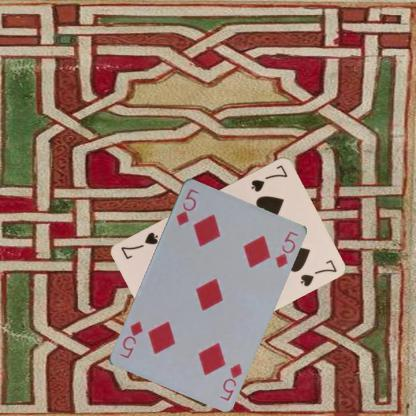5d: (215, 360, 244, 402), (171, 186, 200, 227)
7s: (248, 162, 289, 193)
